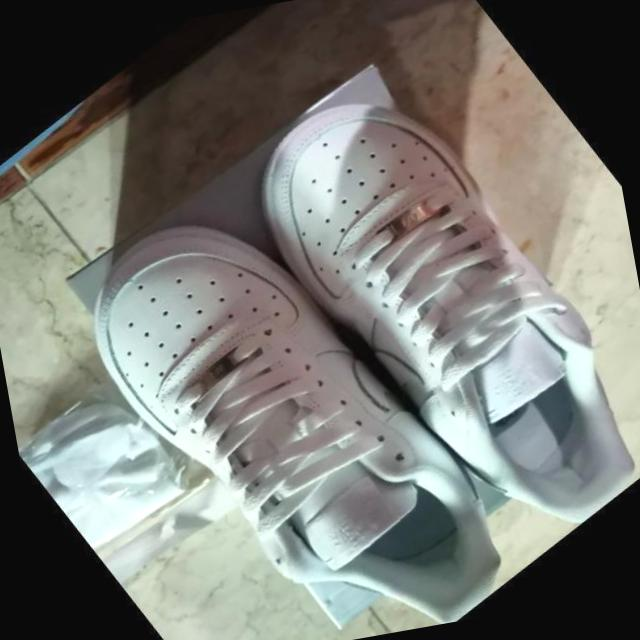nike_fake_airforce: (24, 122, 543, 640), (198, 9, 640, 607)
